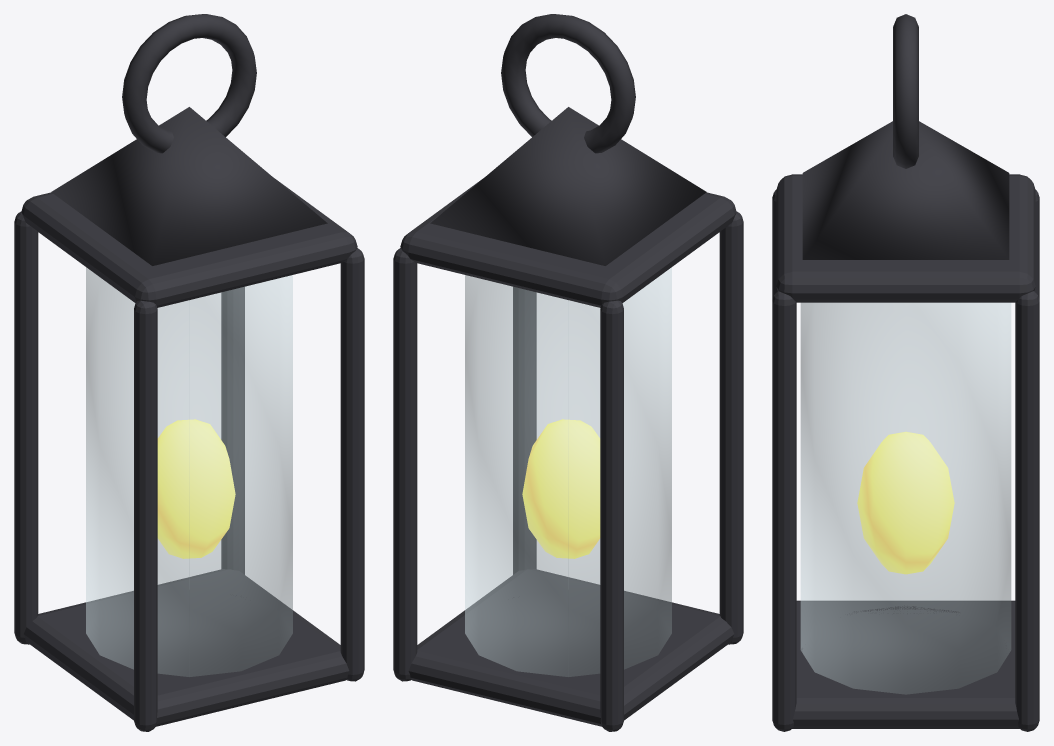
The model's file is lantern_hanging_lantern.glb.
The picture shows the model from 3 angles, left to right: view 1: azimuth 30°, elevation 25°; view 2: azimuth 150°, elevation 25°; view 3: azimuth 270°, elevation 25°; orthographic projection.
Parts seen in each view (by area): view 1: GD_lantern_hanging_lantern__m0, GD_lantern_hanging_lantern__m1, GD_lantern_hanging_lantern__m2; view 2: GD_lantern_hanging_lantern__m0, GD_lantern_hanging_lantern__m1, GD_lantern_hanging_lantern__m2; view 3: GD_lantern_hanging_lantern__m0, GD_lantern_hanging_lantern__m1, GD_lantern_hanging_lantern__m2.
Boxes of the visible parts, x1,y1,x2,y2 form: GD_lantern_hanging_lantern__m0: [14, 14, 364, 731]; GD_lantern_hanging_lantern__m1: [86, 267, 292, 676]; GD_lantern_hanging_lantern__m2: [157, 419, 235, 558]; GD_lantern_hanging_lantern__m0: [393, 14, 743, 731]; GD_lantern_hanging_lantern__m1: [465, 267, 671, 676]; GD_lantern_hanging_lantern__m2: [522, 419, 600, 558]; GD_lantern_hanging_lantern__m0: [772, 14, 1039, 731]; GD_lantern_hanging_lantern__m1: [800, 302, 1011, 694]; GD_lantern_hanging_lantern__m2: [857, 431, 954, 574].
Size of the model in its own units: 0.165 by 0.448 by 0.165.
